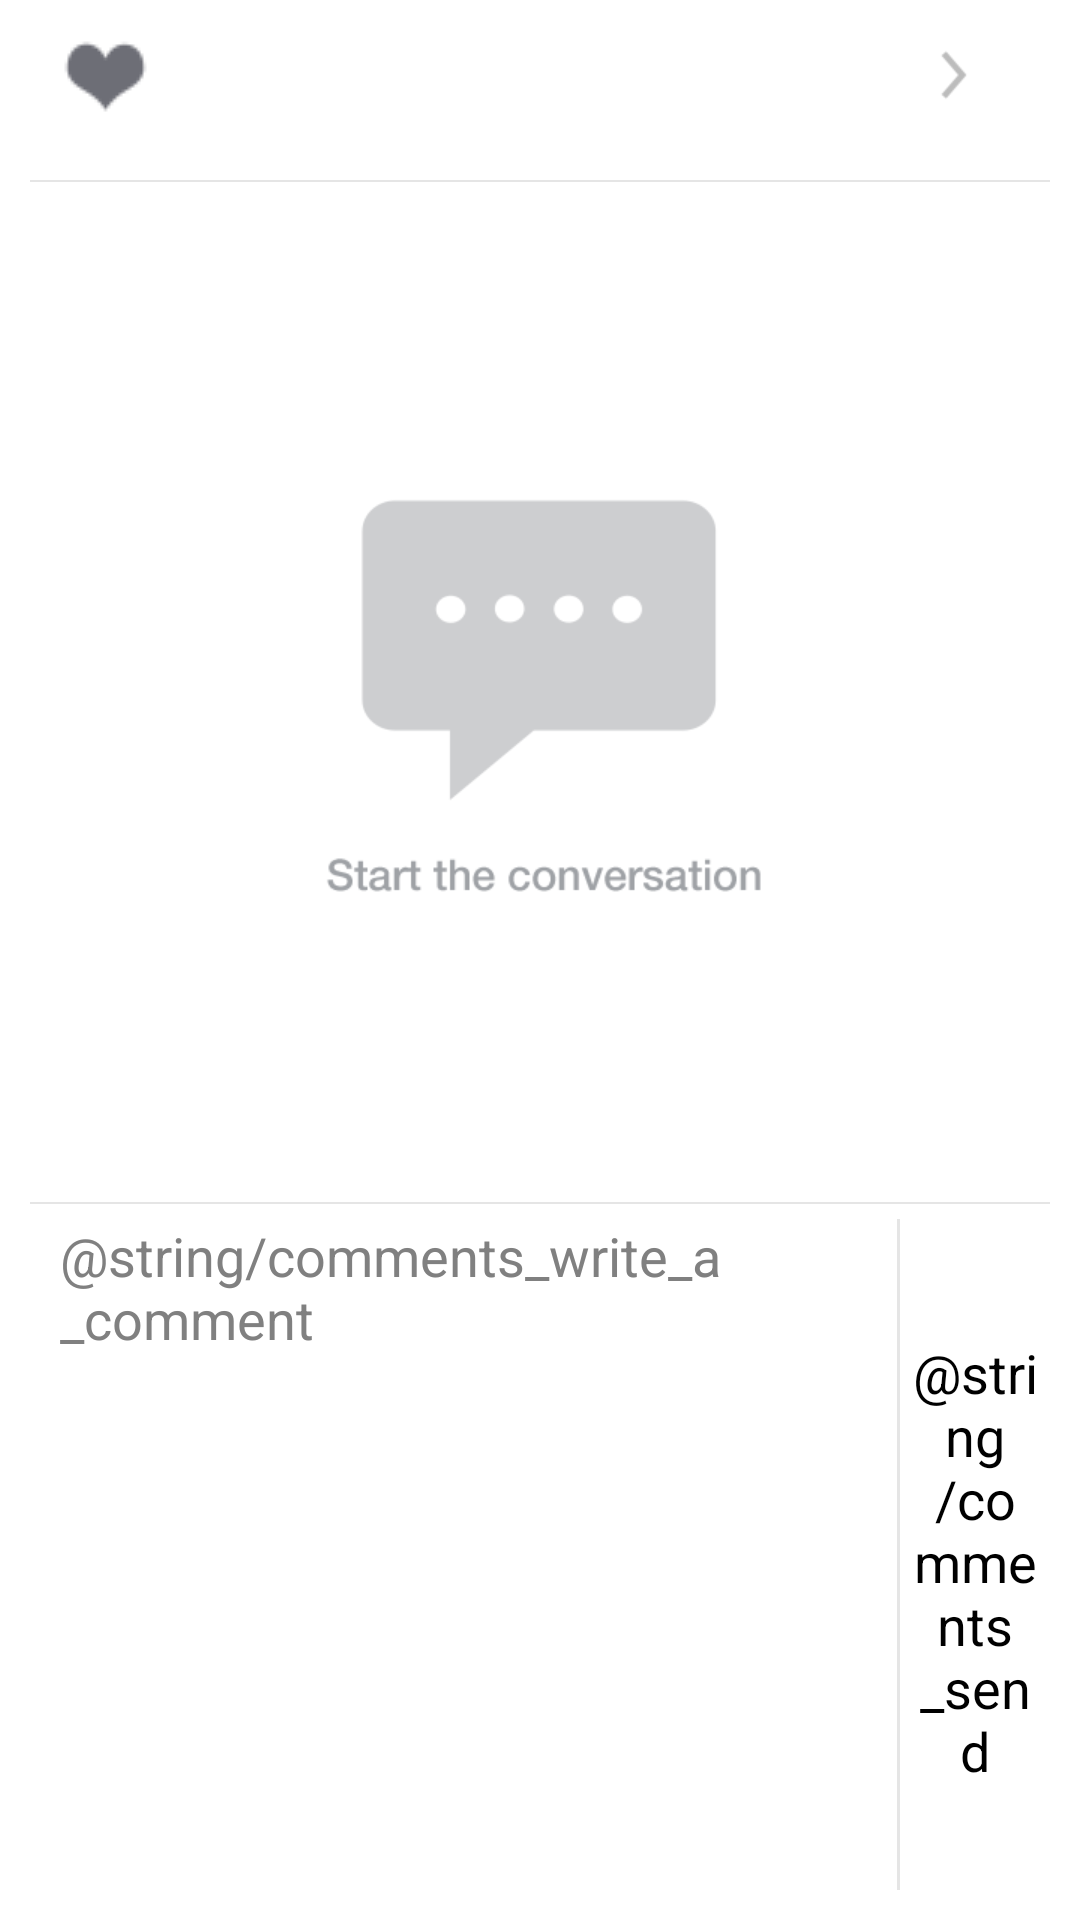

Named icons in this screenshot (1080*1920) and their bounding boxes, BBox(x1, y1, x2, y2):
heart: BBox(66, 43, 145, 111)
